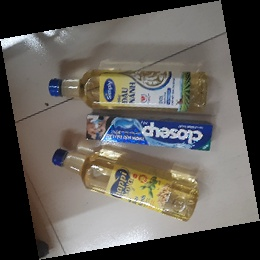CloseUp Tuyet: (83, 111, 214, 152)
Happy Soya: (49, 146, 199, 224)
Simply: (49, 68, 208, 111)
